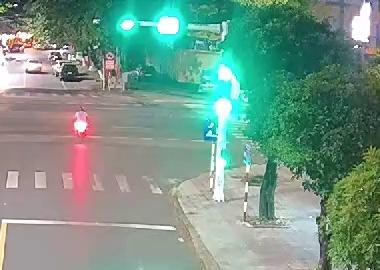green_light: (215, 60, 241, 115), (154, 12, 184, 40), (113, 13, 138, 36)
stop_line: (2, 215, 189, 233)
